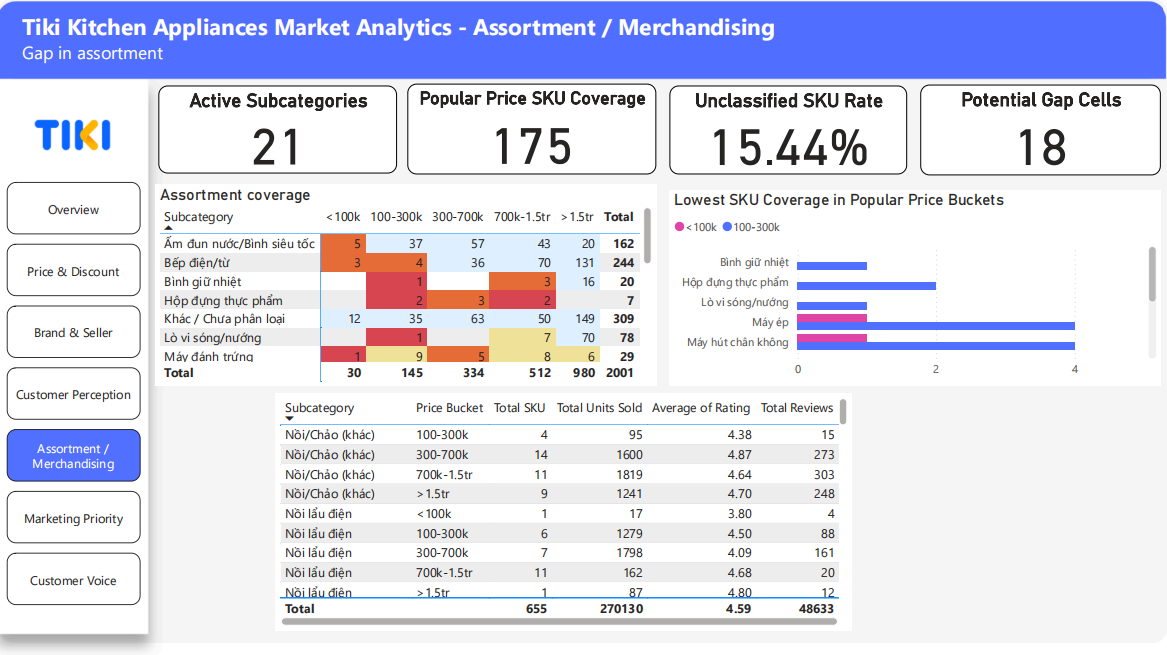

The page's visual inventory and layout, read from the dashboard file:
{"tool":"powerbi","page":{"name":"Assortment / Merchandising","canvas":[1280,720],"ordinal":4},"visuals":[{"type":"textbox","box":[38.6,24.3,904.3,78.6],"z":0},{"type":"card","title":"Active Subcategories","fields":{"Values":["_Measures.Subcategory Count"]},"box":[188.6,108.6,255.7,94.3],"z":1000},{"type":"card","title":"Popular Price SKU Coverage","fields":{"Values":["_Measures.Popular Price SKU Count"]},"box":[455.3,107.1,265.7,97.1],"z":2000},{"type":"card","title":"Unclassified SKU Rate","fields":{"Values":["_Measures.Unclassified SKU Rate"]},"box":[734.8,108.6,254.3,95.7],"z":3000},{"type":"card","title":"Potential Gap Cells","fields":{"Values":["_Measures.Lowest Popular Price SKU Count"]},"box":[1002.9,108.3,257.1,97.1],"z":4000},{"type":"pivotTable","title":"Assortment coverage","fields":{"Rows":["dim_subcategory.subcategory_name"],"Columns":["fact_product_metrics.price_bucket"],"Values":["_Measures.Total SKU"]},"box":[186.2,215,535,215],"z":7000},{"type":"clusteredBarChart","title":"Lowest SKU Coverage in Popular Price Buckets","fields":{"Category":["dim_subcategory.subcategory_name"],"Y":["_Measures.Popular Price SKU Count"],"Series":["fact_product_metrics.price_bucket"]},"box":[735,221.2,525,208.8],"z":8000},{"type":"tableEx","fields":{"Values":["dim_subcategory.subcategory_name","fact_product_metrics.price_bucket","_Measures.Total SKU","_Measures.Total Units Sold","Avg(fact_product_metrics.rating_average)","Sum(fact_product_metrics.crawled_review_count)"]},"box":[313.8,437.5,616.2,253.8],"z":9000},{"type":"pageNavigator","box":[27,211.9,143.6,456.5],"z":10000}]}

Visuals, with their boxes on the page's 1280x720 design canvas (x1, y1, x2, y2). These are canvas units, not pixel positions in the 1167x655 screenshot, which may show the page scaled, cropped or inside an application window:
textbox: select_region(39, 24, 943, 103)
"Active Subcategories" card: select_region(189, 109, 444, 203)
"Popular Price SKU Coverage" card: select_region(455, 107, 721, 204)
"Unclassified SKU Rate" card: select_region(735, 109, 989, 204)
"Potential Gap Cells" card: select_region(1003, 108, 1260, 205)
"Assortment coverage" pivotTable: select_region(186, 215, 721, 430)
"Lowest SKU Coverage in Popular Price Buckets" clusteredBarChart: select_region(735, 221, 1260, 430)
tableEx - dim_subcategory.subcategory_name x fact_product_metrics.price_bucket: select_region(314, 438, 930, 691)
pageNavigator: select_region(27, 212, 171, 668)
